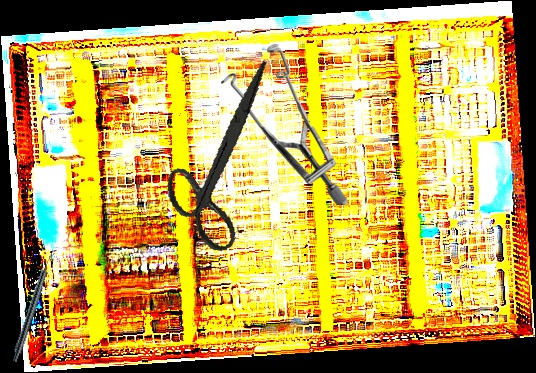Handpiece: (10, 250, 57, 364)
Iris Scissors: (145, 60, 302, 260)
Speculum: (221, 44, 349, 205)
